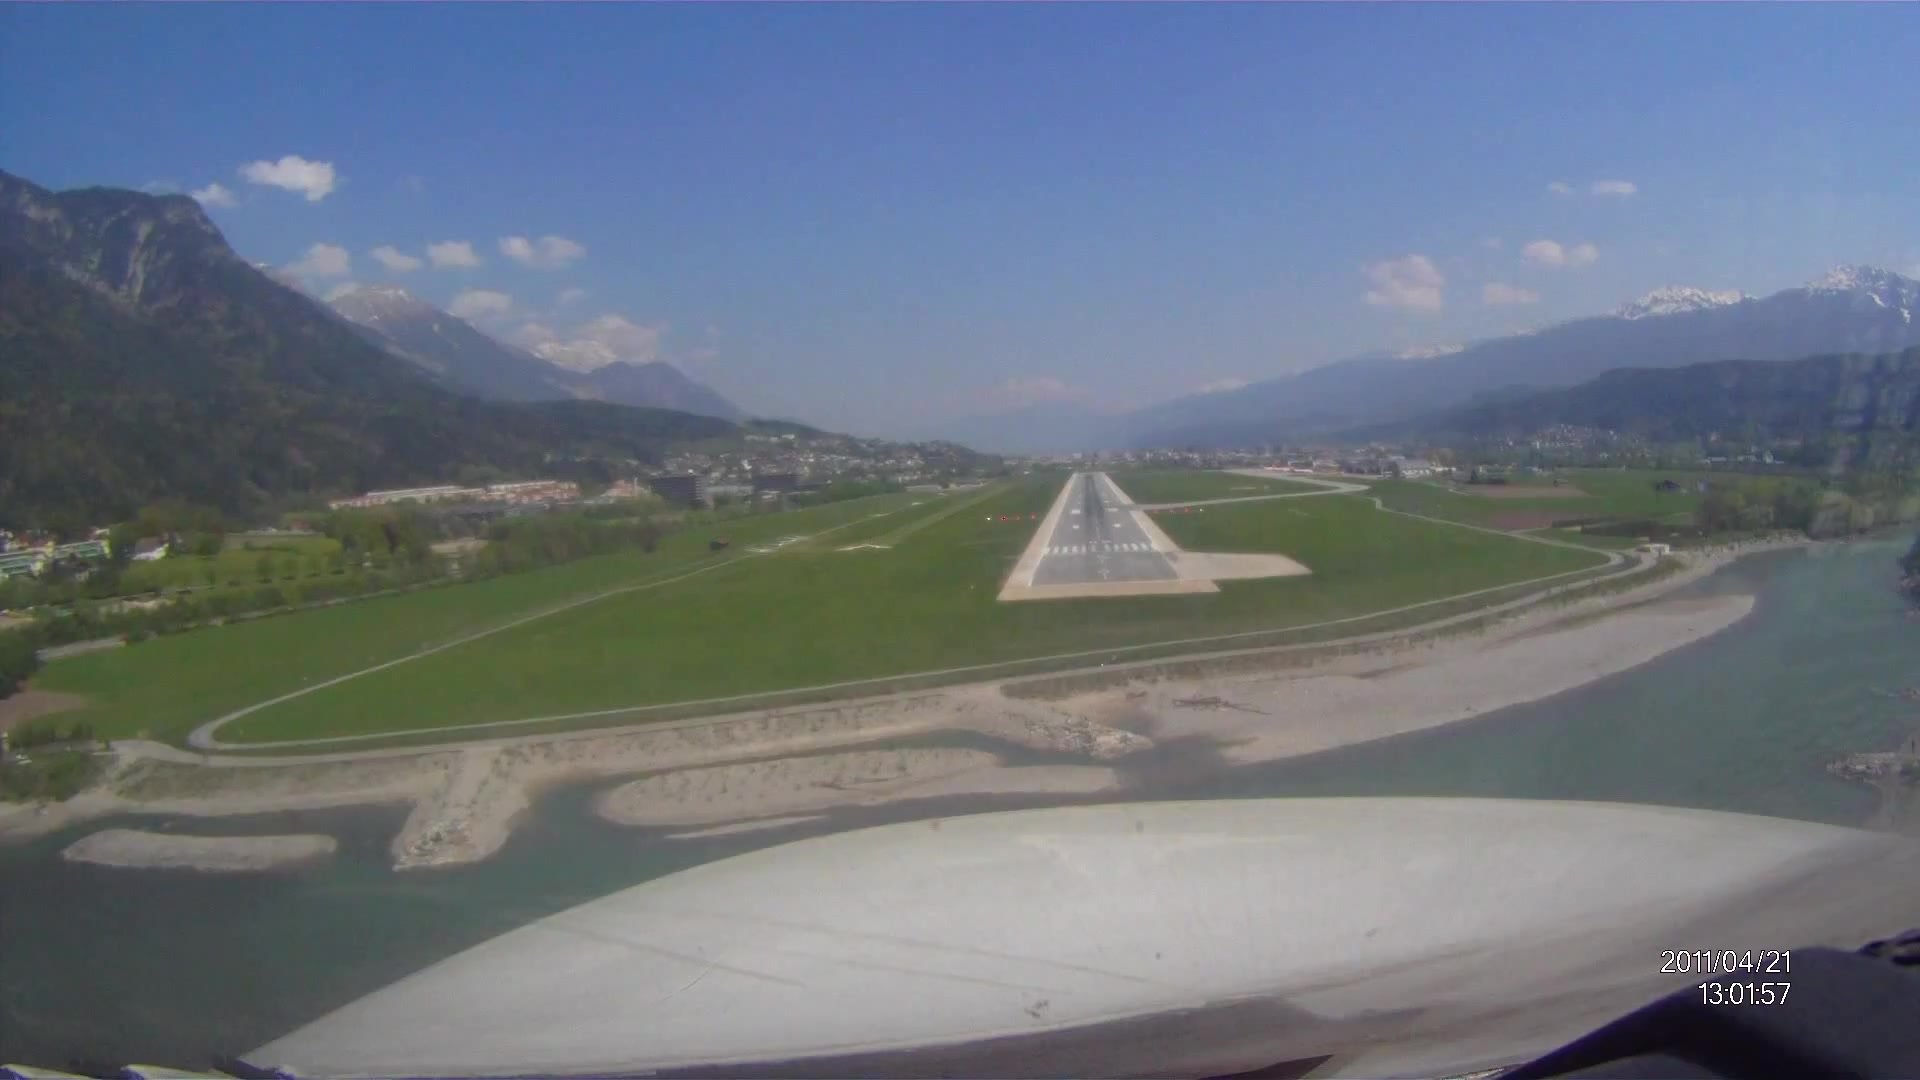entrance: (1040, 541, 1160, 556)
runway: (1036, 467, 1167, 582)
